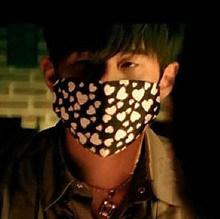OK: (51, 35, 170, 154)
